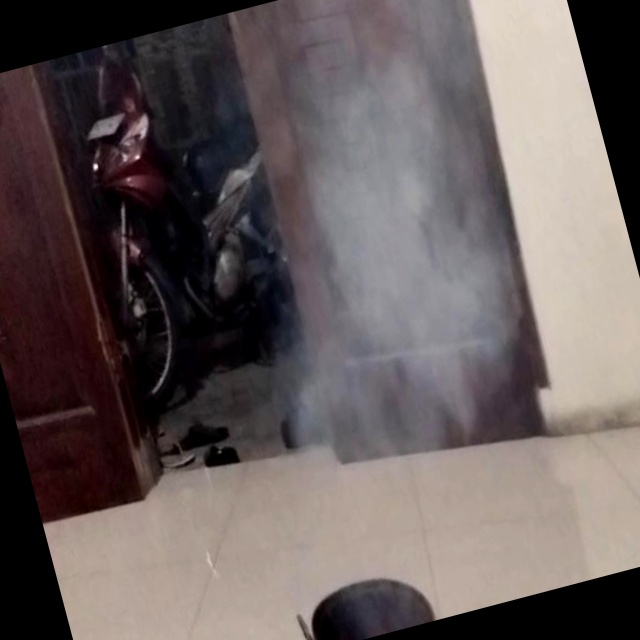smoke: (202, 260, 614, 592), (192, 0, 583, 328)
